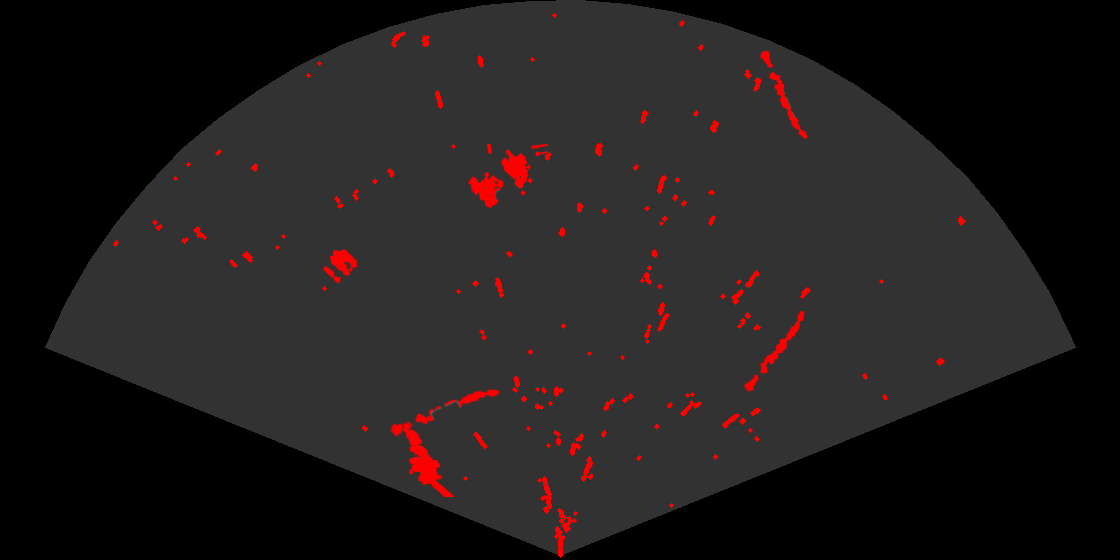ball: (322, 248, 359, 284)
cage: (467, 144, 548, 209)
chain: (389, 387, 501, 438), (743, 309, 806, 393), (759, 49, 809, 140)
frogman: (401, 422, 456, 497)
